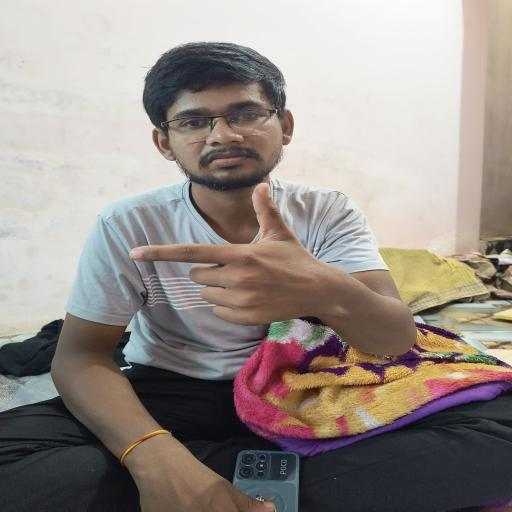OK: (111, 176, 364, 345)
